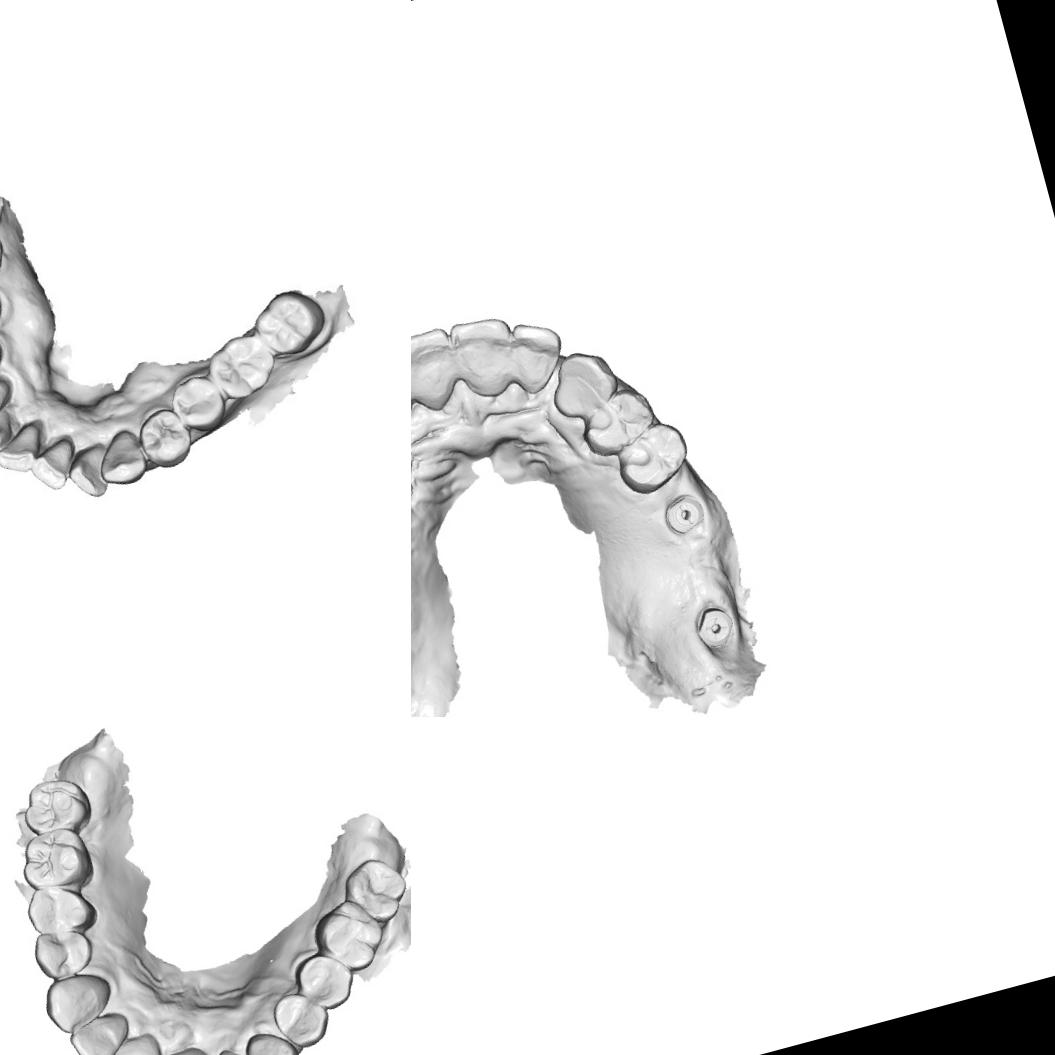canine: (539, 342, 625, 424), (36, 966, 118, 1038), (95, 426, 153, 494), (238, 1022, 306, 1055), (0, 373, 17, 429)
implant_minus: (661, 488, 708, 538)
implant_plus: (689, 597, 742, 654)
incisor: (444, 309, 526, 406), (498, 312, 573, 399), (411, 321, 470, 421), (65, 1007, 138, 1055), (68, 438, 118, 498), (0, 420, 54, 472), (30, 441, 81, 486), (90, 1031, 172, 1055), (0, 410, 15, 457)
molar: (305, 891, 391, 980), (12, 821, 99, 903), (200, 326, 283, 406), (250, 284, 332, 362), (15, 770, 97, 846), (335, 849, 411, 931)
premolar: (606, 413, 698, 499), (572, 380, 664, 460), (19, 874, 100, 944), (288, 945, 361, 1018), (268, 984, 336, 1054), (28, 921, 98, 983), (168, 368, 230, 436), (134, 405, 194, 472)
